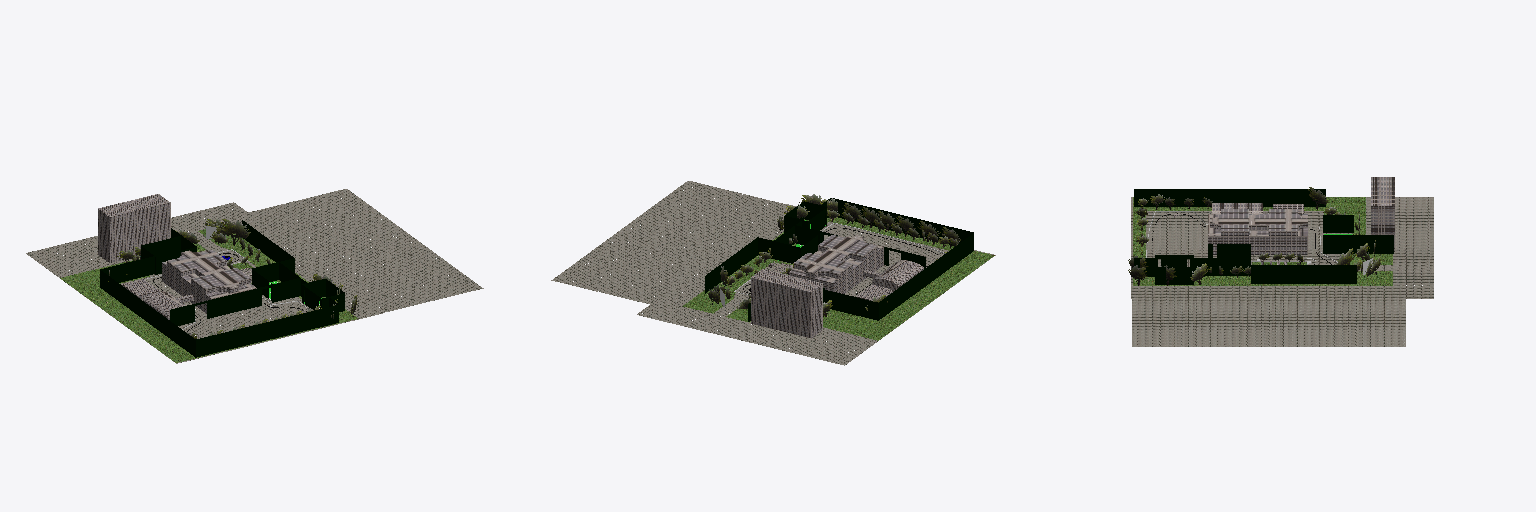
The picture shows the model from 3 angles: view 1: azimuth 30°, elevation 25°; view 2: azimuth 150°, elevation 25°; view 3: azimuth 270°, elevation 25°; orthographic projection.
Visible parts, largest first — view 1: ground_Plane, Plane.002_Plane.073, Cube.001_Cube.008, Plane_Plane.001, Plane.001_Plane.034; view 2: ground_Plane, Cube.001_Cube.008, Plane.002_Plane.073, Plane_Plane.001, Plane.001_Plane.034; view 3: ground_Plane, Plane.002_Plane.073, Cube.001_Cube.008, Plane_Plane.001, Plane.001_Plane.034.
Part boxes in pixels (x1,y1,x2,y2): ground_Plane: (26, 189, 483, 363); Plane.002_Plane.073: (100, 220, 344, 357); Cube.001_Cube.008: (98, 194, 305, 337); Plane_Plane.001: (60, 224, 357, 362); Plane.001_Plane.034: (108, 219, 356, 338); ground_Plane: (551, 181, 995, 365); Cube.001_Cube.008: (751, 231, 933, 338); Plane.002_Plane.073: (705, 198, 973, 321); Plane_Plane.001: (683, 217, 994, 340); Plane.001_Plane.034: (708, 194, 960, 316); ground_Plane: (1131, 197, 1433, 346); Plane.002_Plane.073: (1134, 189, 1393, 284); Cube.001_Cube.008: (1174, 177, 1394, 264); Plane_Plane.001: (1133, 197, 1392, 285); Plane.001_Plane.034: (1128, 187, 1380, 285).
Bounding box in the file's own units: 254 × 47.65 × 220.
15 materials, 5 textured.